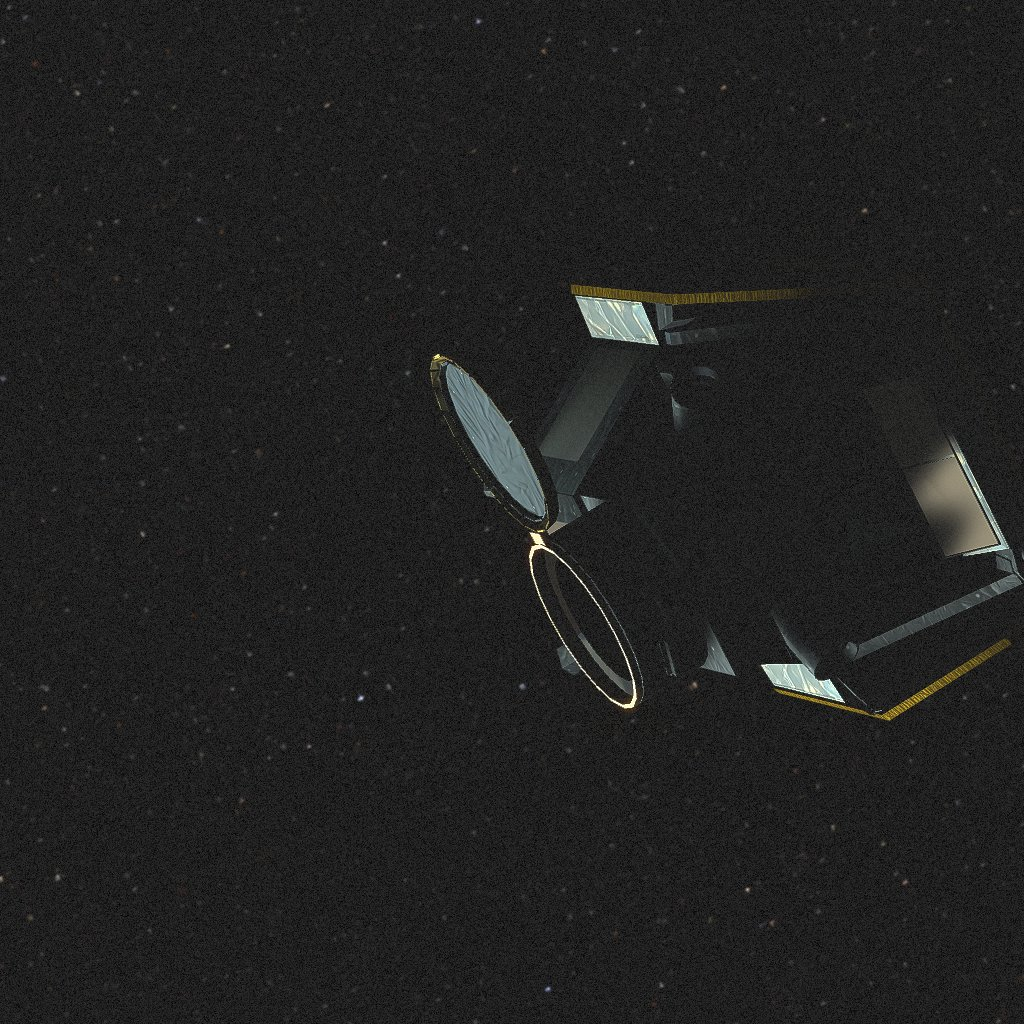cheops: (430, 259, 1024, 721)
